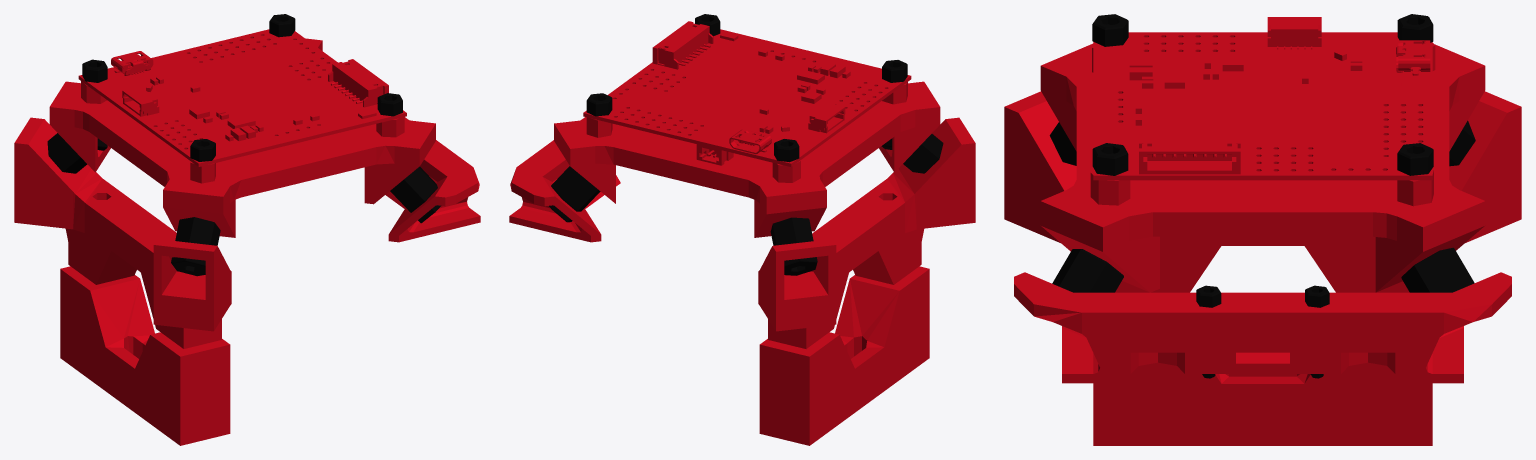
File: spinal.dae
3 views of the same model, side by side, from view 1: azimuth 30°, elevation 25°; view 2: azimuth 150°, elevation 25°; view 3: azimuth 270°, elevation 25° (orthographic). The views are drawn at different scales.
Parts seen in each view (by area): view 1: Spinal_Red, Spinal_Black; view 2: Spinal_Red, Spinal_Black; view 3: Spinal_Red, Spinal_Black.
Boxes of the visible parts, bbox=[...] form: Spinal_Red: bbox=[14, 29, 480, 445]; Spinal_Black: bbox=[47, 14, 440, 276]; Spinal_Red: bbox=[509, 21, 975, 445]; Spinal_Black: bbox=[549, 14, 943, 275]; Spinal_Red: bbox=[1004, 17, 1521, 445]; Spinal_Black: bbox=[1049, 14, 1475, 378].
Size of the model in its own units: 0.0782 by 0.0763 by 0.0675.
